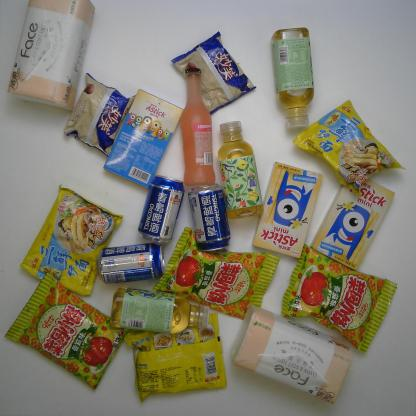Alcohol: (178, 68, 216, 187), (137, 175, 185, 244), (188, 184, 234, 254), (98, 243, 164, 284)
Dessert: (309, 178, 396, 272), (104, 88, 184, 189), (170, 31, 257, 115), (252, 162, 324, 259), (64, 72, 136, 158)
Drink: (110, 287, 210, 334), (217, 121, 264, 219), (271, 28, 315, 128)
Instant Noodles: (19, 183, 124, 296), (292, 100, 406, 196), (123, 312, 227, 402)
Puffed Food: (4, 276, 125, 390), (280, 244, 398, 354), (152, 227, 280, 321)
Tissue: (230, 304, 353, 404), (8, 0, 95, 111)
